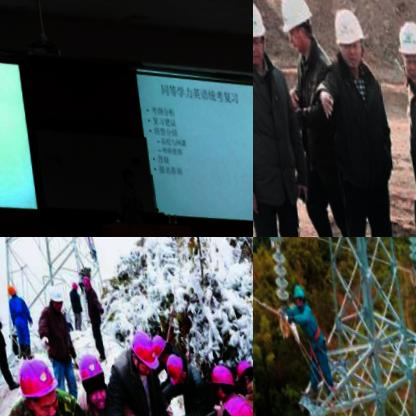head: (50, 217, 69, 237), (116, 159, 131, 180), (188, 224, 207, 237), (162, 225, 182, 237), (234, 222, 249, 237), (32, 227, 51, 237), (138, 228, 157, 237), (176, 226, 191, 237), (121, 229, 141, 237)
helmet: (7, 351, 57, 416), (327, 0, 367, 67), (273, 0, 316, 54), (69, 346, 105, 410), (391, 9, 416, 78), (204, 381, 253, 416), (124, 324, 154, 376), (202, 354, 233, 401), (253, 0, 268, 67), (227, 347, 253, 385), (142, 328, 170, 361), (159, 350, 186, 384), (41, 282, 61, 312), (285, 278, 305, 306), (1, 283, 19, 301), (79, 271, 90, 290)
